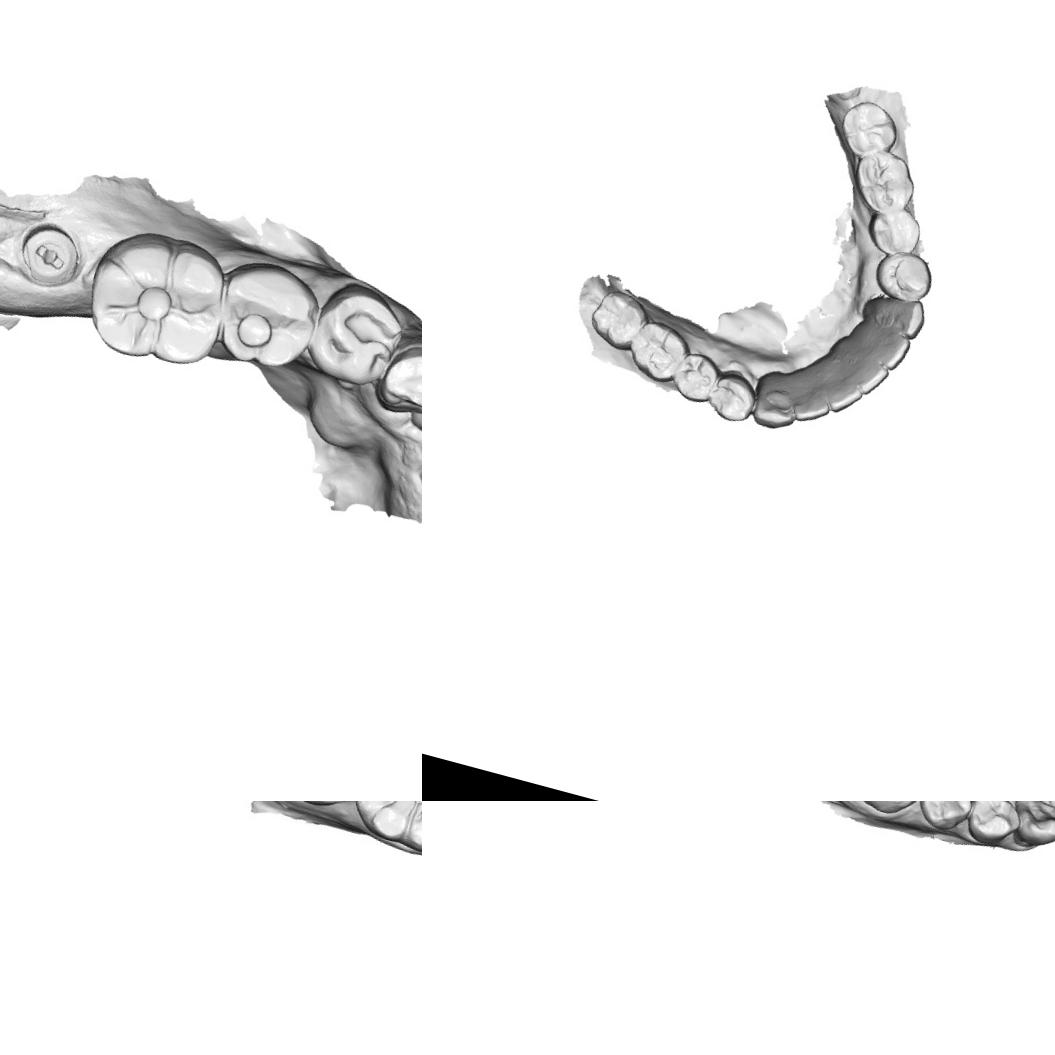canine: (371, 319, 422, 433), (857, 284, 931, 343), (744, 368, 805, 435), (1002, 801, 1055, 857)
implant_minus: (10, 215, 88, 295)
incisor: (785, 372, 837, 428), (863, 326, 914, 374), (842, 352, 892, 400), (822, 372, 867, 420)
molar: (74, 217, 240, 378), (844, 144, 923, 222), (621, 314, 696, 388), (582, 282, 654, 356), (832, 92, 904, 164), (344, 801, 422, 858), (834, 801, 939, 822)
premolar: (207, 250, 332, 380), (302, 272, 414, 395), (869, 244, 939, 308), (862, 200, 926, 262), (704, 365, 762, 427), (668, 346, 724, 408), (962, 801, 1028, 852), (912, 801, 978, 837)
